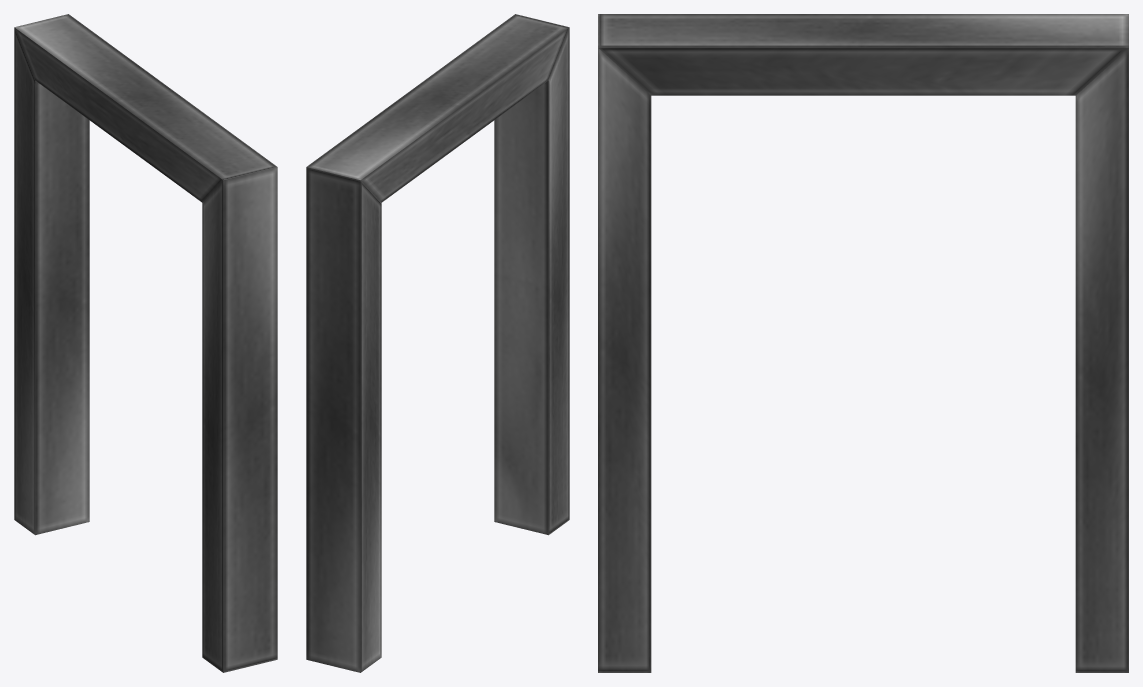
Rendered from SM_Door_Frame_02.fbx.
The picture shows the model from 3 angles, left to right: view 1: azimuth 30°, elevation 25°; view 2: azimuth 150°, elevation 25°; view 3: azimuth 270°, elevation 25°; orthographic projection. The views are drawn at different scales.
Visible parts, largest first — view 1: SM_Door_Frame_02; view 2: SM_Door_Frame_02; view 3: SM_Door_Frame_02.
Part boxes in pixels (left/top/right/bottom): SM_Door_Frame_02: left=14, top=14, right=277, bottom=672; SM_Door_Frame_02: left=306, top=14, right=569, bottom=672; SM_Door_Frame_02: left=598, top=14, right=1128, bottom=672.
Bounding box in the file's own units: 30 × 260 × 200.
